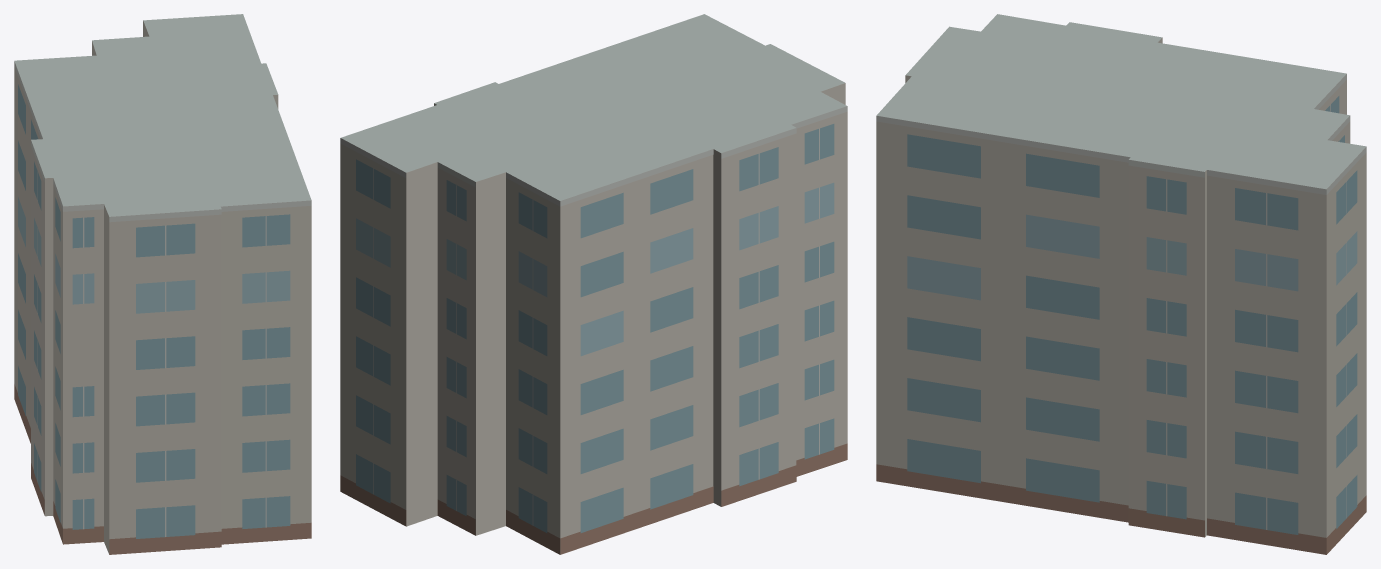
File: survey-upis-32618169.glb
3 renders of one model, left to right at view 1: azimuth 30°, elevation 25°; view 2: azimuth 150°, elevation 25°; view 3: azimuth 270°, elevation 25°, orthographic. The views are drawn at different scales.
Parts seen in each view (by area): view 1: survey-upis-32618169.tmp; view 2: survey-upis-32618169.tmp; view 3: survey-upis-32618169.tmp.
Part boxes in pixels (x1=…): survey-upis-32618169.tmp: x1=14, y1=14, x2=311, y2=554; survey-upis-32618169.tmp: x1=340, y1=14, x2=847, y2=554; survey-upis-32618169.tmp: x1=876, y1=14, x2=1366, y2=554.
Bounding box in the file's own units: 15.85 × 15.4 × 18.73.
